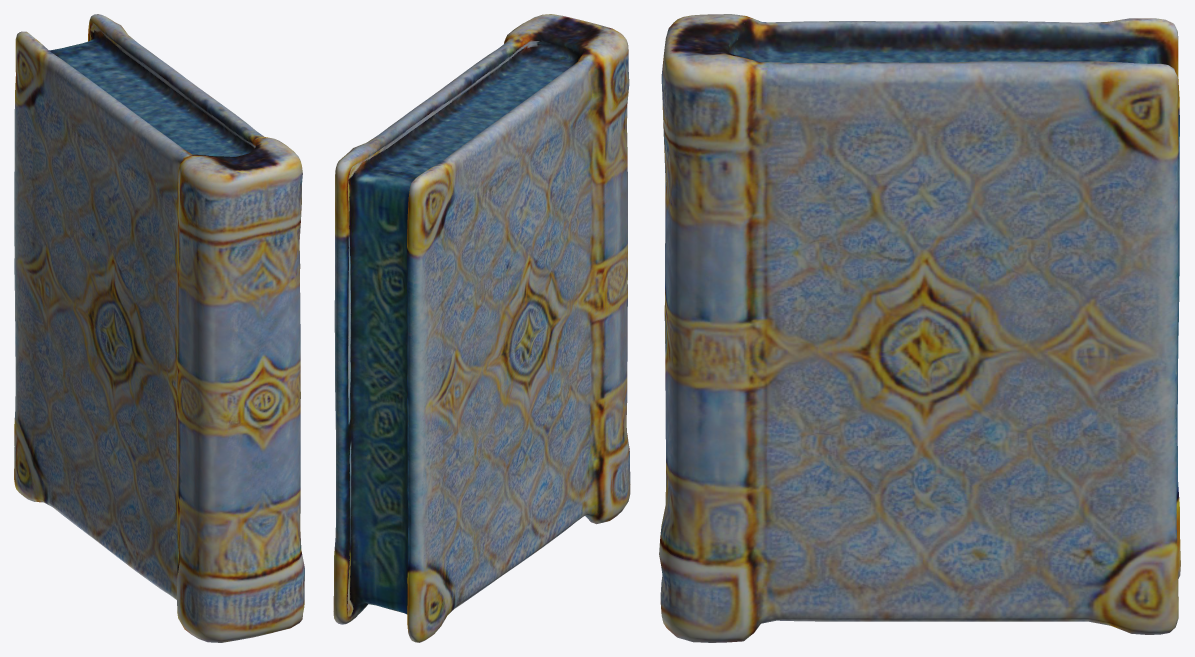
The model's file is 55abc699be98_highly_detailed_fan.fbx.
3 renders of one model, left to right at view 1: azimuth 30°, elevation 25°; view 2: azimuth 150°, elevation 25°; view 3: azimuth 270°, elevation 25°, orthographic. The views are drawn at different scales.
Visible parts, largest first — view 1: mesh; view 2: mesh; view 3: mesh.
Part boxes in pixels (x1,y1,x2,y2): mesh: [14, 14, 304, 642]; mesh: [333, 14, 630, 642]; mesh: [659, 14, 1180, 642].
Bounding box in the file's own units: 23.9 × 99.76 × 81.62.
